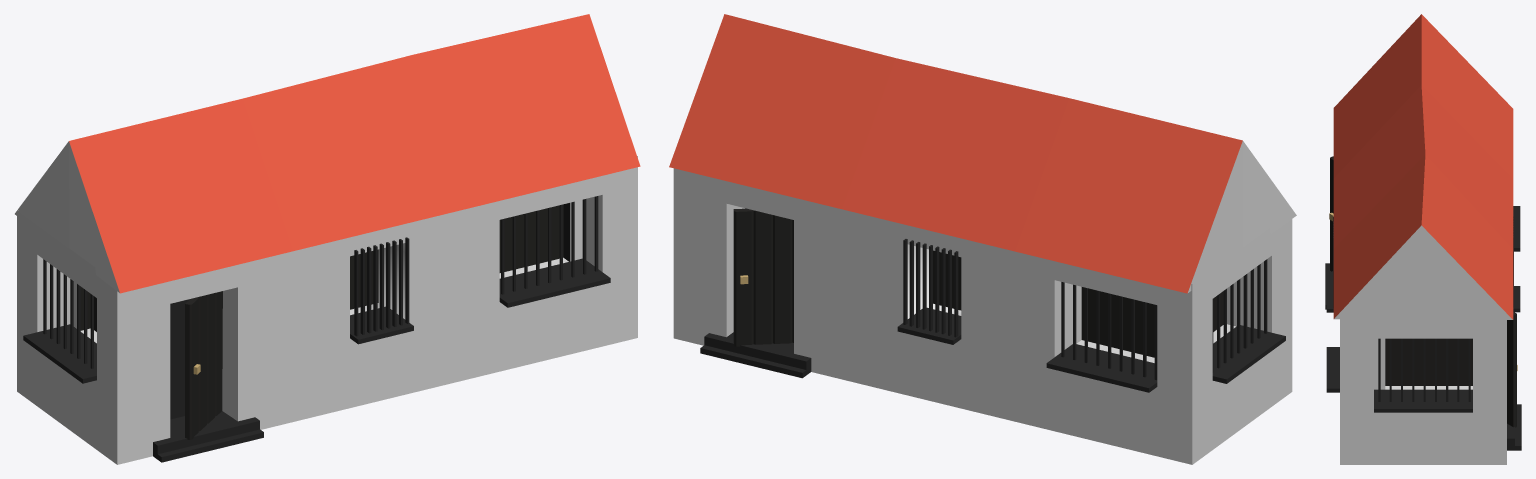
File: casa procedural_relleno_4.fbx
The picture shows the model from 3 angles, left to right: view 1: azimuth 30°, elevation 25°; view 2: azimuth 150°, elevation 25°; view 3: azimuth 270°, elevation 25°; orthographic projection. The views are drawn at different scales.
Parts seen in each view (by area): view 1: Procedural_Building_straight.002; view 2: Procedural_Building_straight.002; view 3: Procedural_Building_straight.002.
Part boxes in pixels (x1,y1,x2,y2): Procedural_Building_straight.002: [15, 14, 640, 464]; Procedural_Building_straight.002: [669, 14, 1296, 464]; Procedural_Building_straight.002: [1325, 14, 1521, 464].
Size of the model in its own units: 316 by 159 by 118.
